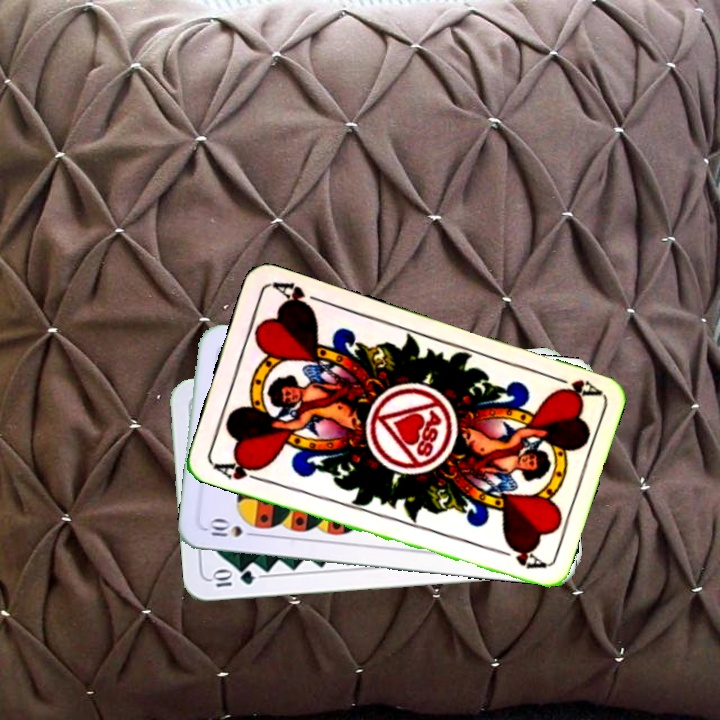G10: (208, 567, 257, 590)
HA: (544, 370, 602, 403), (208, 455, 267, 484)
S10: (202, 517, 261, 540)
